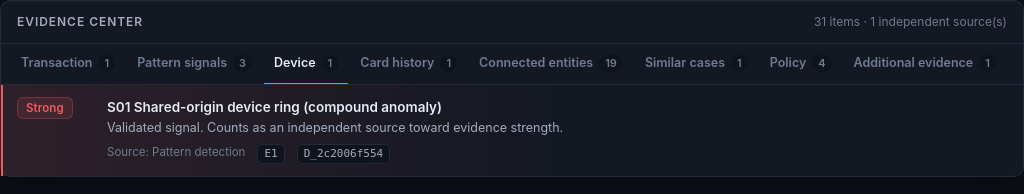
Test case: evidence center › marks any simulated evidence as simulated, never as customer evidence
The image size is (1024, 194).
Click the tab "Additional evidence 1" at (925, 64), box [844,44,1006,85]
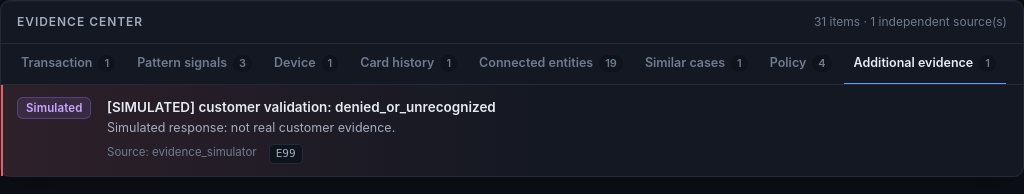
expect the text "Simulated" is shown: met, box [17,97,92,119]
expect the text "Simulated response: not real customer evidence." is shown: met, box [107,120,395,135]
